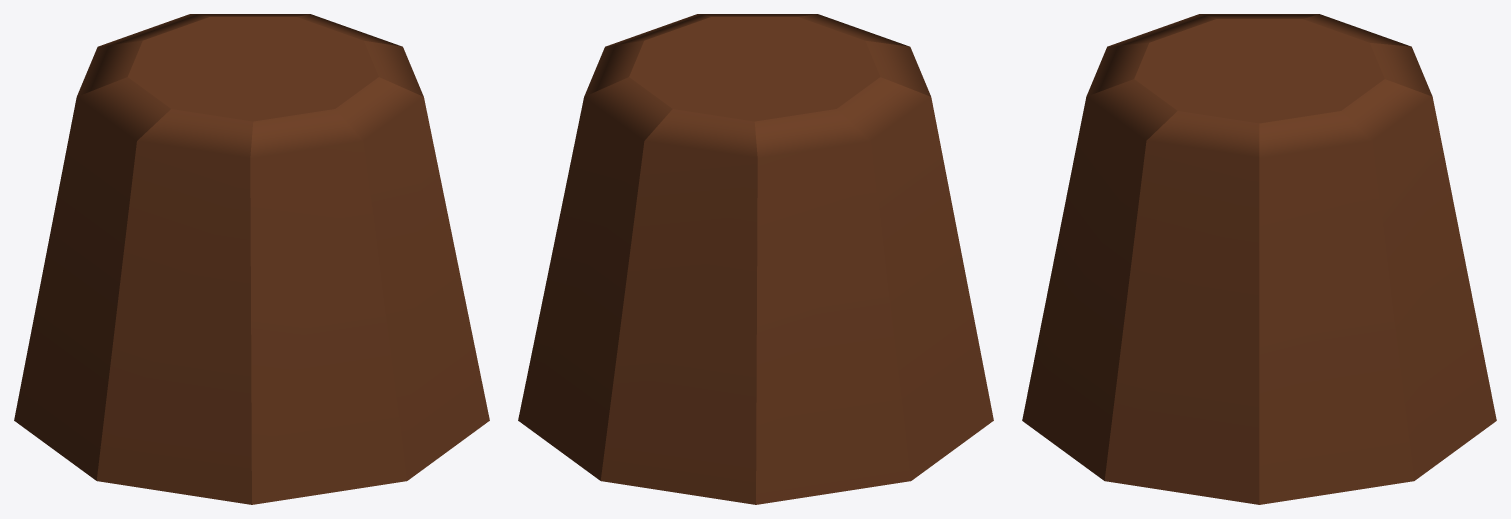
File: TreeStump.fbx
The picture shows the model from 3 angles, left to right: view 1: azimuth 30°, elevation 25°; view 2: azimuth 150°, elevation 25°; view 3: azimuth 270°, elevation 25°; orthographic projection.
Parts seen in each view (by area): view 1: TreeStump; view 2: TreeStump; view 3: TreeStump.
Boxes of the visible parts, left/top/right/bottom form: TreeStump: left=14, top=14, right=489, bottom=504; TreeStump: left=518, top=14, right=993, bottom=504; TreeStump: left=1022, top=14, right=1496, bottom=504.
Bounding box in the file's own units: 2.19 × 1.73 × 2.22.
